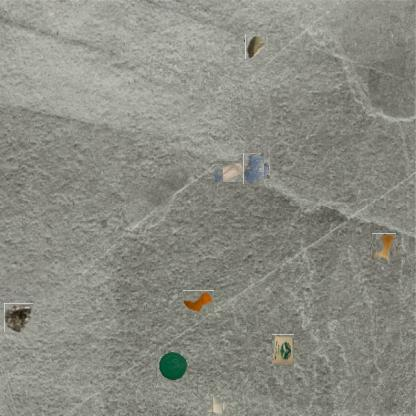dirty: (156, 350, 188, 382), (4, 303, 33, 332), (182, 290, 214, 313), (214, 160, 246, 182), (272, 334, 294, 365), (244, 35, 267, 58), (209, 399, 226, 415)
liquid: (241, 155, 267, 182), (372, 234, 397, 260)
